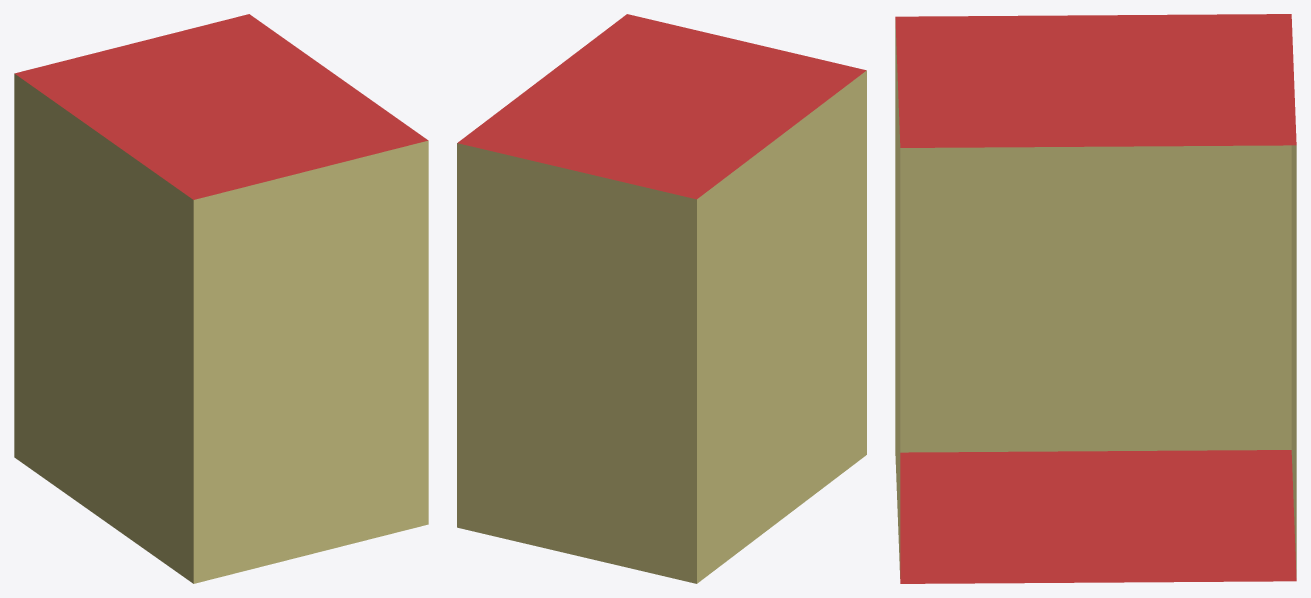
3 views of the same model, side by side, from view 1: azimuth 30°, elevation 25°; view 2: azimuth 150°, elevation 25°; view 3: azimuth 270°, elevation 25° (orthographic). The views are drawn at different scales.
Bounding box in the file's own units: 4.31 × 5.45 × 6.53.
